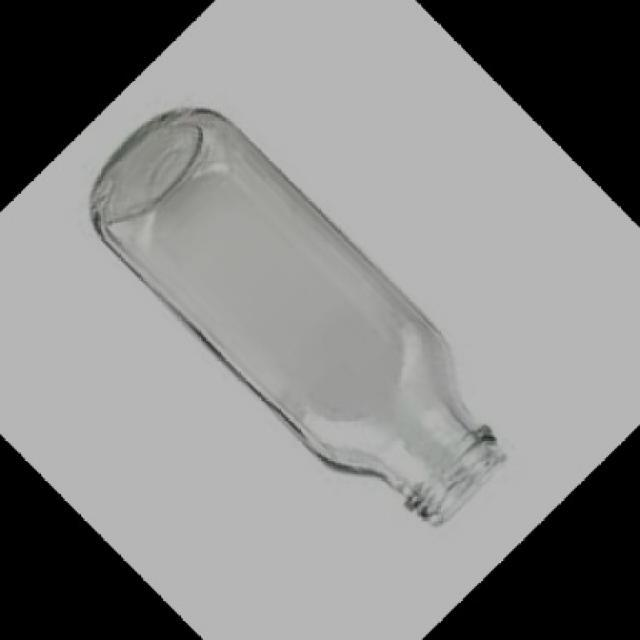Glass: (89, 107, 506, 524)
